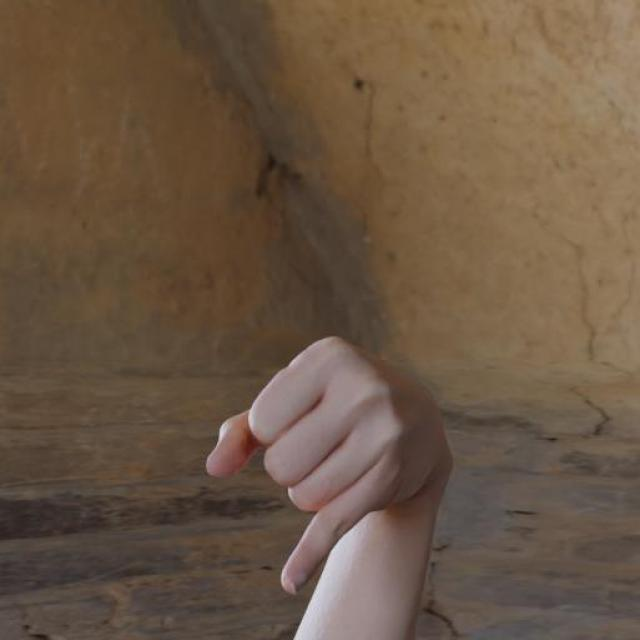J: (205, 332, 454, 596)
